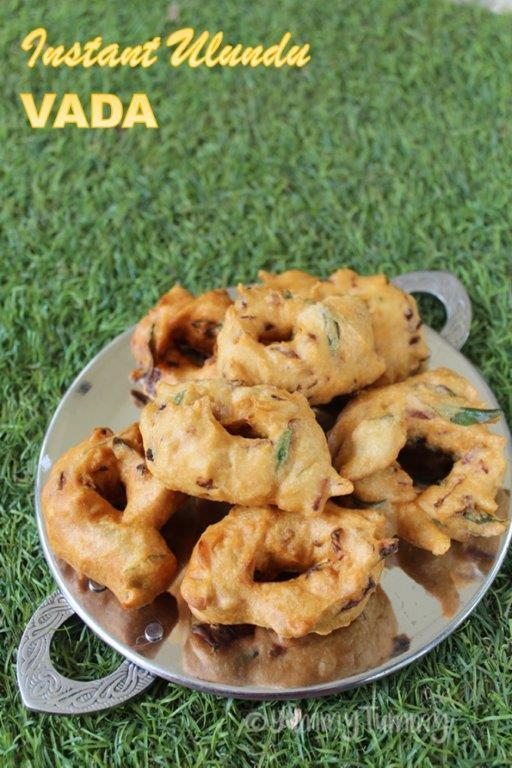mvada: (148, 318, 441, 607)
